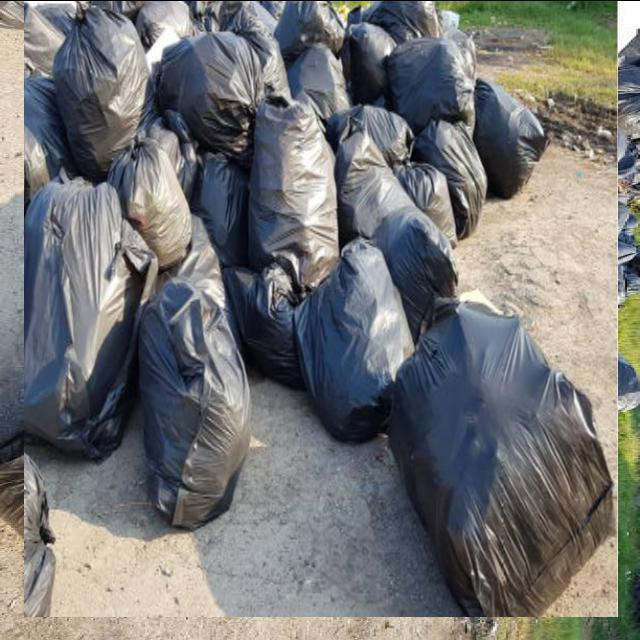Single-layer Plastic: (390, 304, 612, 616), (25, 178, 158, 459), (139, 216, 250, 528), (295, 239, 414, 441), (249, 101, 339, 291), (52, 6, 149, 181), (155, 31, 265, 162), (371, 208, 458, 339), (108, 139, 192, 269), (224, 264, 304, 387), (336, 131, 415, 243), (412, 120, 486, 238), (386, 38, 474, 133), (474, 79, 544, 198), (190, 152, 249, 266), (328, 105, 414, 169), (395, 161, 456, 246), (288, 42, 350, 122), (341, 24, 396, 106), (275, 1, 345, 62), (365, 1, 441, 44)
